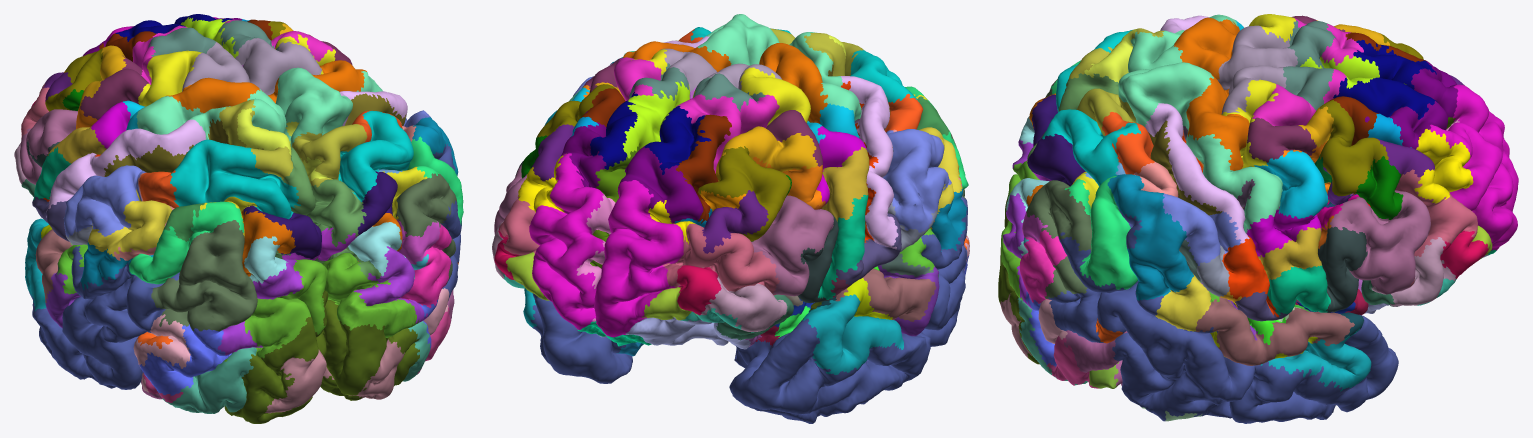
File: cortex-julich.glb
3 views of the same model, side by side, from view 1: azimuth 30°, elevation 25°; view 2: azimuth 150°, elevation 25°; view 3: azimuth 270°, elevation 25° (orthographic). The views are drawn at different scales.
Parts seen in each view (by area): view 1: julich:left:136, julich:left:34, julich:left:58, julich:right:7, julich:left:46, julich:left:7, julich:right:48, julich:right:46, julich:left:49, julich:left:35, julich:right:58, julich:left:36 (+64 smaller); view 2: julich:left:136, julich:left:68, julich:right:68, julich:left:35, julich:left:83, julich:right:136, julich:left:1, julich:left:49, julich:left:140, julich:left:144, julich:left:142, julich:left:15 (+57 smaller); view 3: julich:right:136, julich:right:48, julich:right:38, julich:right:1, julich:right:15, julich:right:68, julich:right:36, julich:right:34, julich:right:49, julich:right:144, julich:right:58, julich:right:83 (+61 smaller).
Boxes of the visible parts, <box> form: julich:left:136: <box>29,246,179,389</box>; julich:left:34: <box>151,220,257,331</box>; julich:left:58: <box>170,139,300,219</box>; julich:right:7: <box>320,299,419,400</box>; julich:left:46: <box>223,259,328,361</box>; julich:left:7: <box>224,290,328,423</box>; julich:right:48: <box>275,67,382,146</box>; julich:right:46: <box>322,253,418,337</box>; julich:left:49: <box>46,119,205,217</box>; julich:left:35: <box>63,165,146,237</box>; julich:right:58: <box>338,110,413,202</box>; julich:left:36: <box>129,201,244,284</box>; julich:left:136: <box>729,196,967,423</box>; julich:left:68: <box>594,180,683,337</box>; julich:right:68: <box>529,153,604,329</box>; julich:left:35: <box>883,129,951,232</box>; julich:left:83: <box>802,294,903,374</box>; julich:right:136: <box>530,293,632,383</box>; julich:left:1: <box>751,195,833,296</box>; julich:left:49: <box>840,76,898,249</box>; julich:left:140: <box>662,223,779,295</box>; julich:left:144: <box>698,146,790,241</box>; julich:left:142: <box>617,146,703,223</box>; julich:left:15: <box>835,268,936,321</box>; julich:right:136: <box>1048,203,1398,423</box>; julich:right:48: <box>1118,62,1282,233</box>; julich:right:38: <box>1107,174,1193,300</box>; julich:right:1: <box>1330,190,1430,294</box>; julich:right:15: <box>1195,297,1354,365</box>; julich:right:68: <box>1430,122,1517,250</box>; julich:right:36: <box>1064,175,1137,289</box>; julich:right:34: <box>1026,180,1092,299</box>; julich:right:49: <box>1141,103,1249,243</box>; julich:right:144: <box>1319,100,1402,196</box>; julich:right:58: <box>1042,109,1141,186</box>; julich:right:83: <box>1260,328,1371,391</box>.
Bounding box in the file's own units: 0.1284 × 0.103 × 0.1464.
